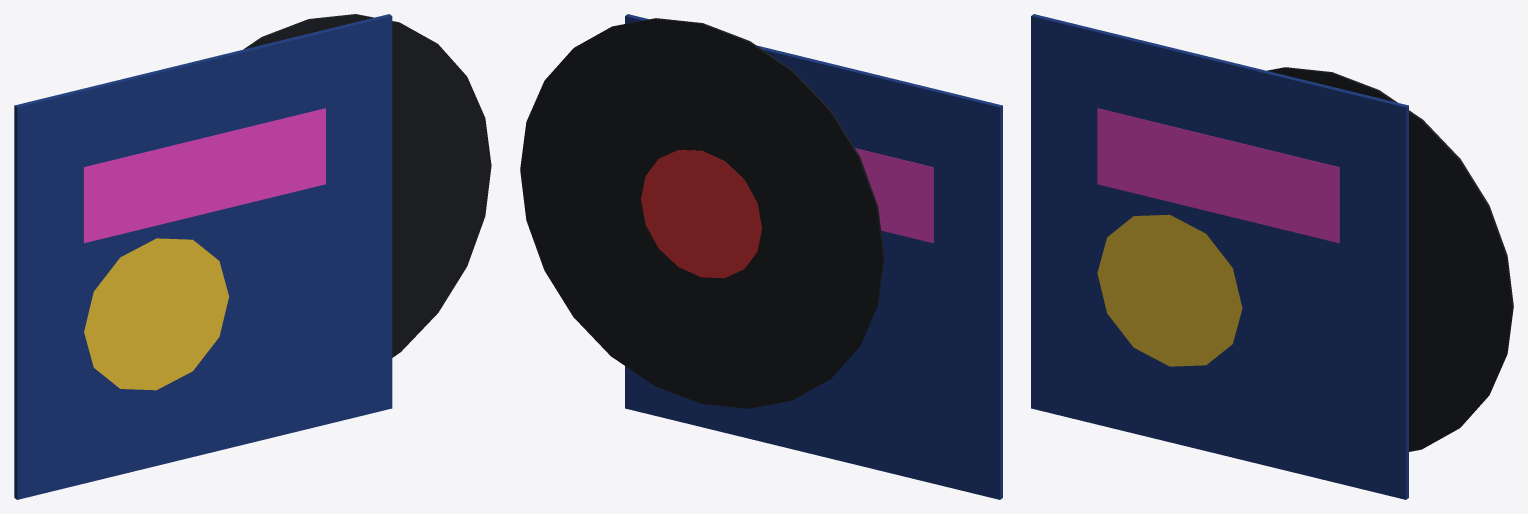
File: vinyl-rare.glb
3 renders of one model, left to right at view 1: azimuth 30°, elevation 25°; view 2: azimuth 150°, elevation 25°; view 3: azimuth 330°, elevation 25°, orthographic.
Parts seen in each view (by area): view 1: vinyl_rare; view 2: vinyl_rare; view 3: vinyl_rare.
Part boxes in pixels (bbox=[...]): vinyl_rare: bbox=[14, 14, 491, 499]; vinyl_rare: bbox=[520, 14, 1002, 499]; vinyl_rare: bbox=[1031, 14, 1513, 499].
Bounding box in the file's own units: 0.395 × 0.32 × 0.00765.
